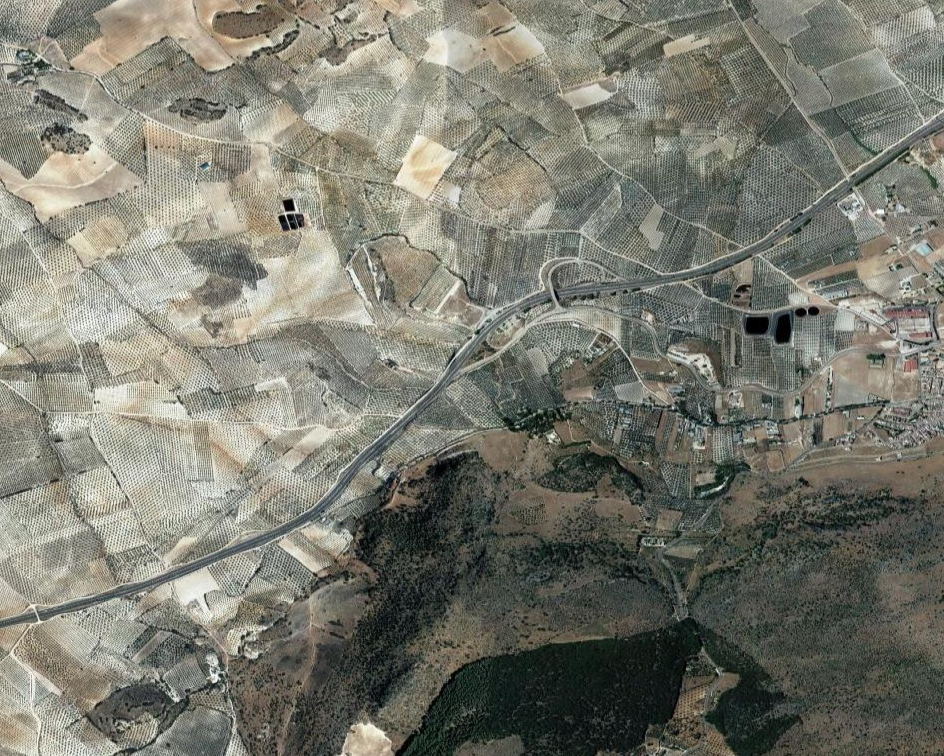motorway: (274, 302, 509, 543), (1, 515, 282, 681), (501, 214, 770, 334), (771, 97, 944, 265)
